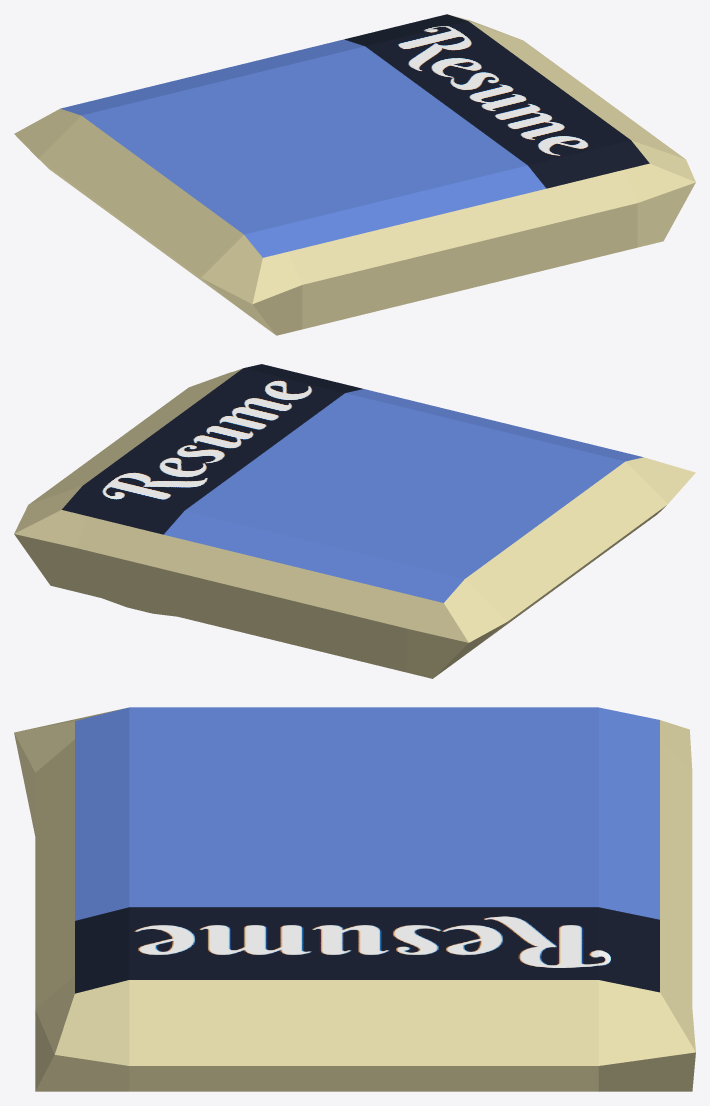
Rendered from packet_1.glb.
The picture shows the model from 3 angles, top to bottom: view 1: azimuth 30°, elevation 25°; view 2: azimuth 150°, elevation 25°; view 3: azimuth 270°, elevation 25°; orthographic projection. The views are drawn at different scales.
Visible parts, largest first — view 1: Cube; view 2: Cube; view 3: Cube.
Part boxes in pixels (x1,y1,x2,y2): Cube: [14, 14, 695, 335]; Cube: [14, 364, 695, 678]; Cube: [14, 707, 695, 1091].
Size of the model in its own units: 2.46 by 0.3898 by 2.08.
Materials: 1 (1 with a texture image).
